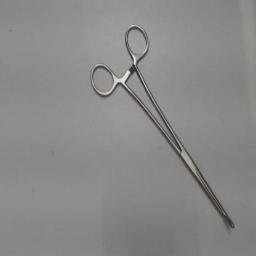Lahey Forceps: (88, 18, 242, 236)
